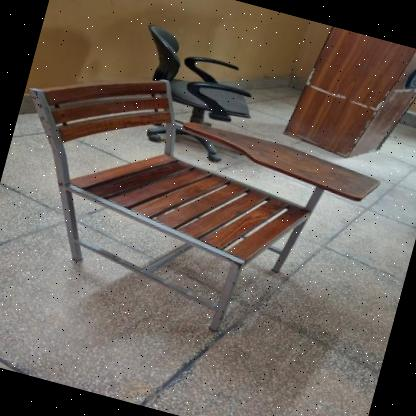chair: (0, 46, 391, 368), (116, 17, 272, 167)
